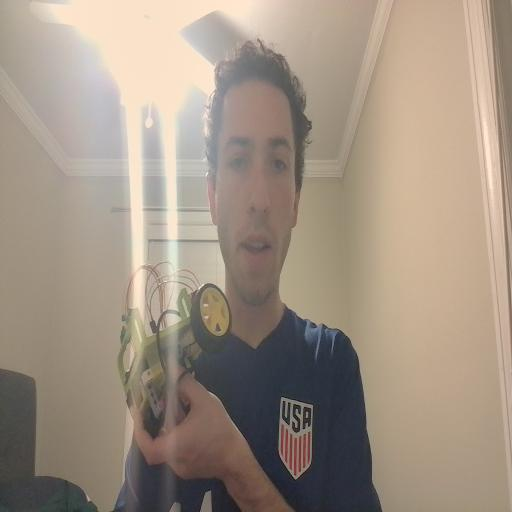green LEGO minifig: (120, 306, 136, 344)
